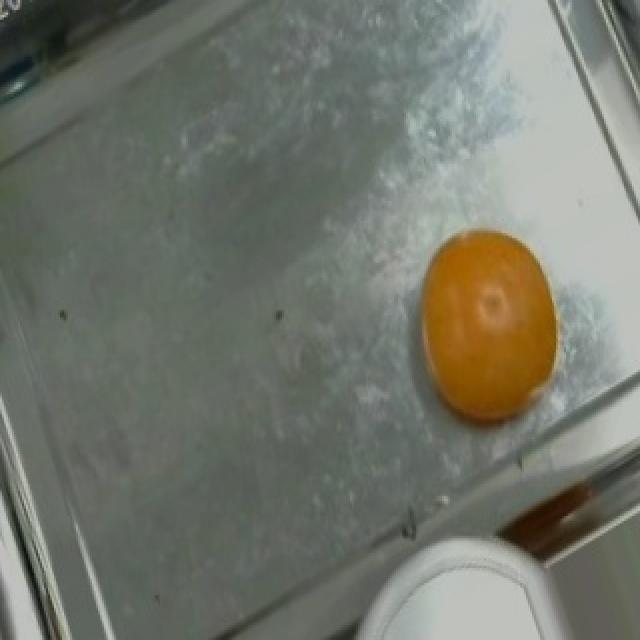Fruit: (394, 208, 584, 446), (344, 553, 568, 640)
